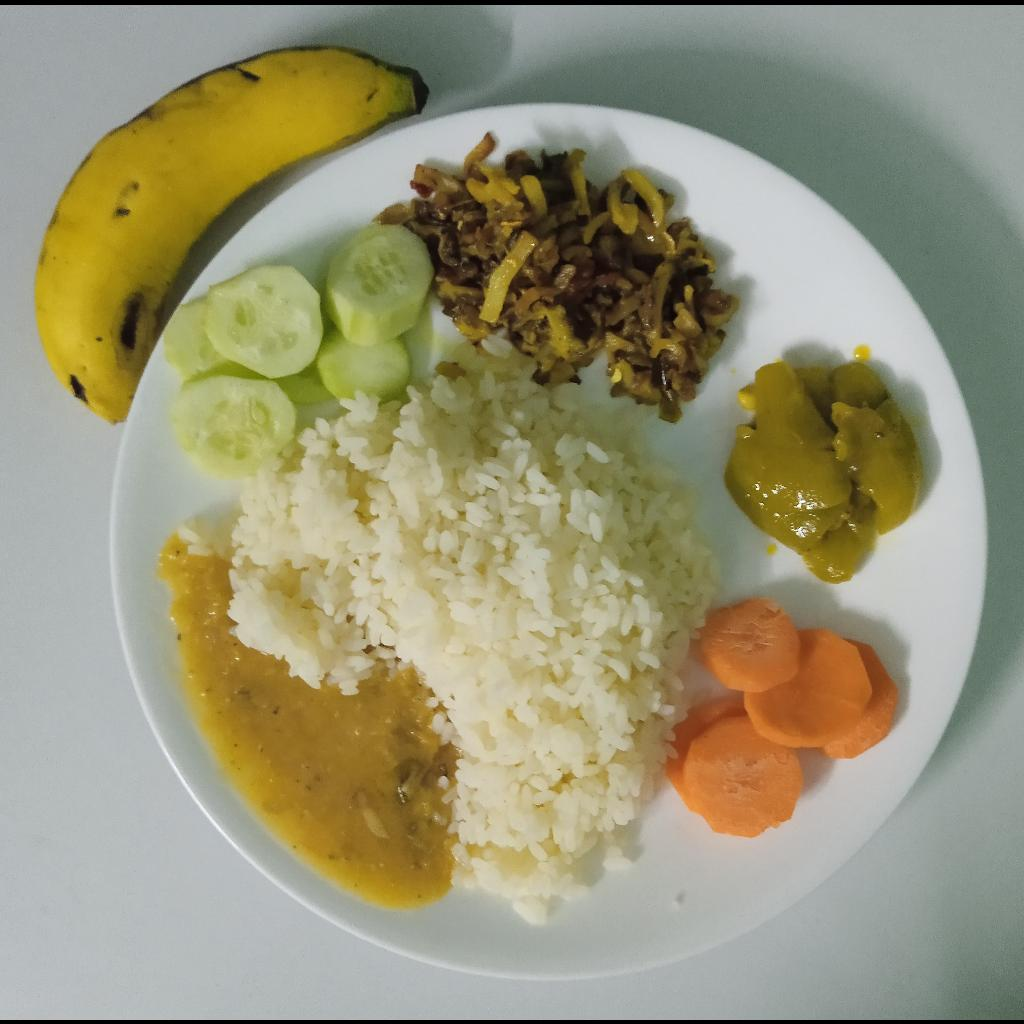banana: (31, 45, 424, 426)
carrot: (668, 598, 901, 840)
cucumber: (162, 223, 434, 480)
daal: (161, 531, 462, 911)
dundol: (725, 360, 926, 591)
rice: (226, 342, 718, 930)
vegetable: (373, 130, 748, 423)
